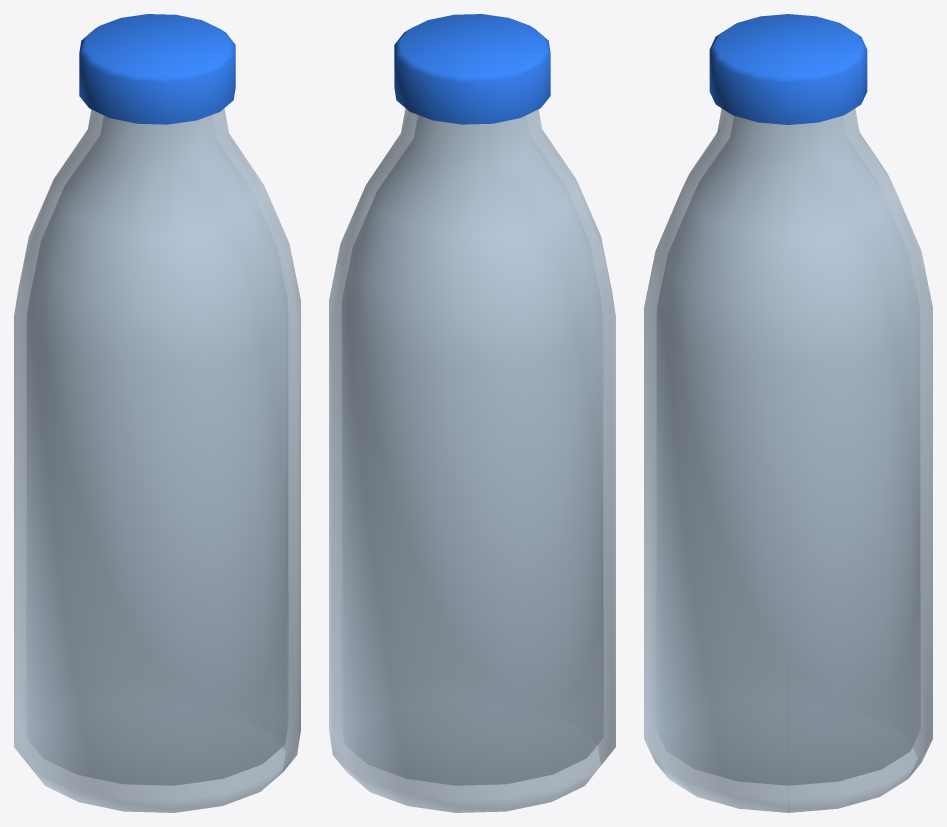
File: MilkBottle.FBX
The picture shows the model from 3 angles, left to right: view 1: azimuth 30°, elevation 25°; view 2: azimuth 150°, elevation 25°; view 3: azimuth 270°, elevation 25°; orthographic projection.
Parts seen in each view (by area): view 1: MilkBottle; view 2: MilkBottle; view 3: MilkBottle.
Boxes of the visible parts, x1=… form: MilkBottle: x1=14, y1=14, x2=300, y2=812; MilkBottle: x1=329, y1=14, x2=615, y2=812; MilkBottle: x1=644, y1=14, x2=932, y2=812.
Size of the model in its own units: 30.07 by 81.94 by 30.07.
